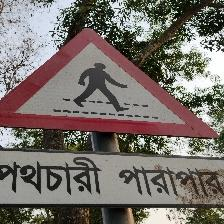Pedestrian-crossing: (2, 22, 224, 208)
